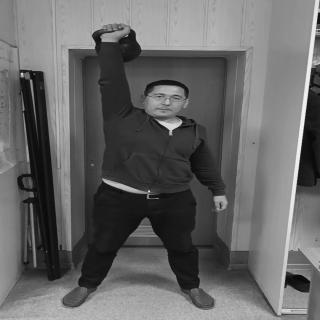kettlebell: (93, 27, 143, 63)
